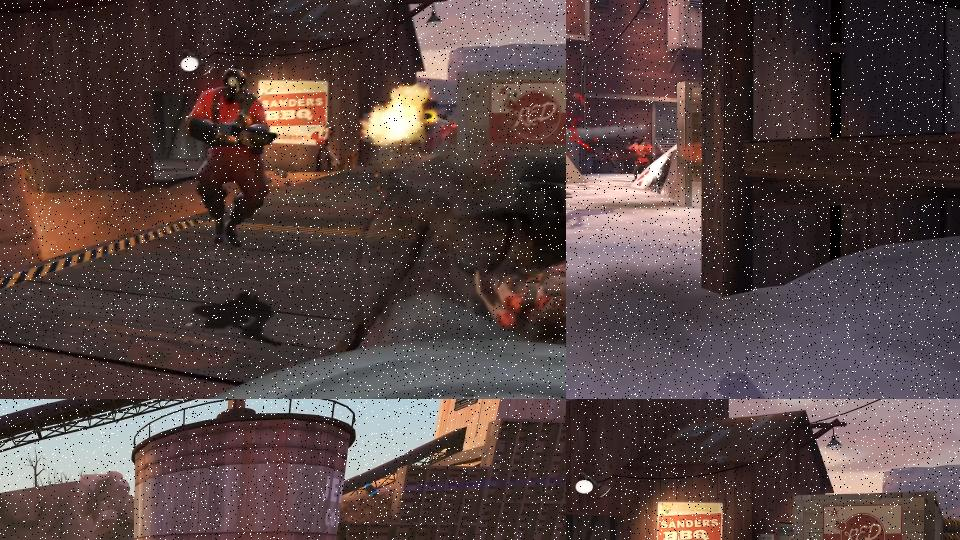Enemy: (181, 67, 276, 249), (476, 252, 566, 337), (312, 120, 341, 172), (628, 135, 653, 182), (596, 140, 619, 173)
